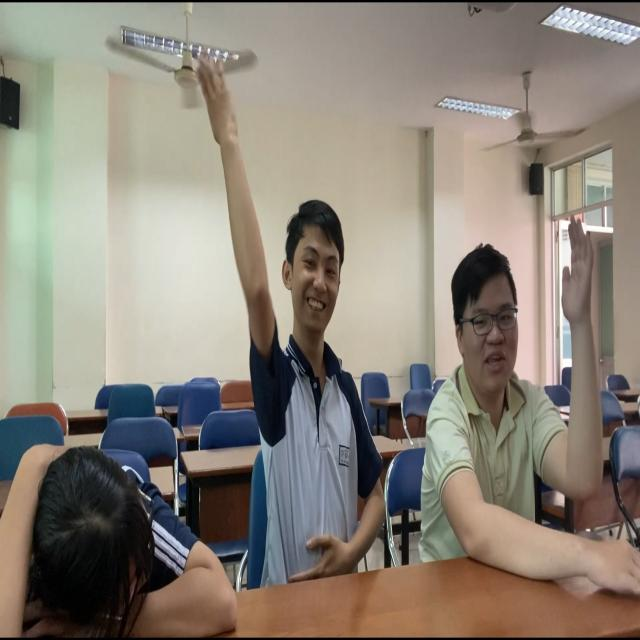raise_hand: (197, 74, 350, 596), (426, 210, 607, 572)
sleep: (1, 433, 237, 640)
